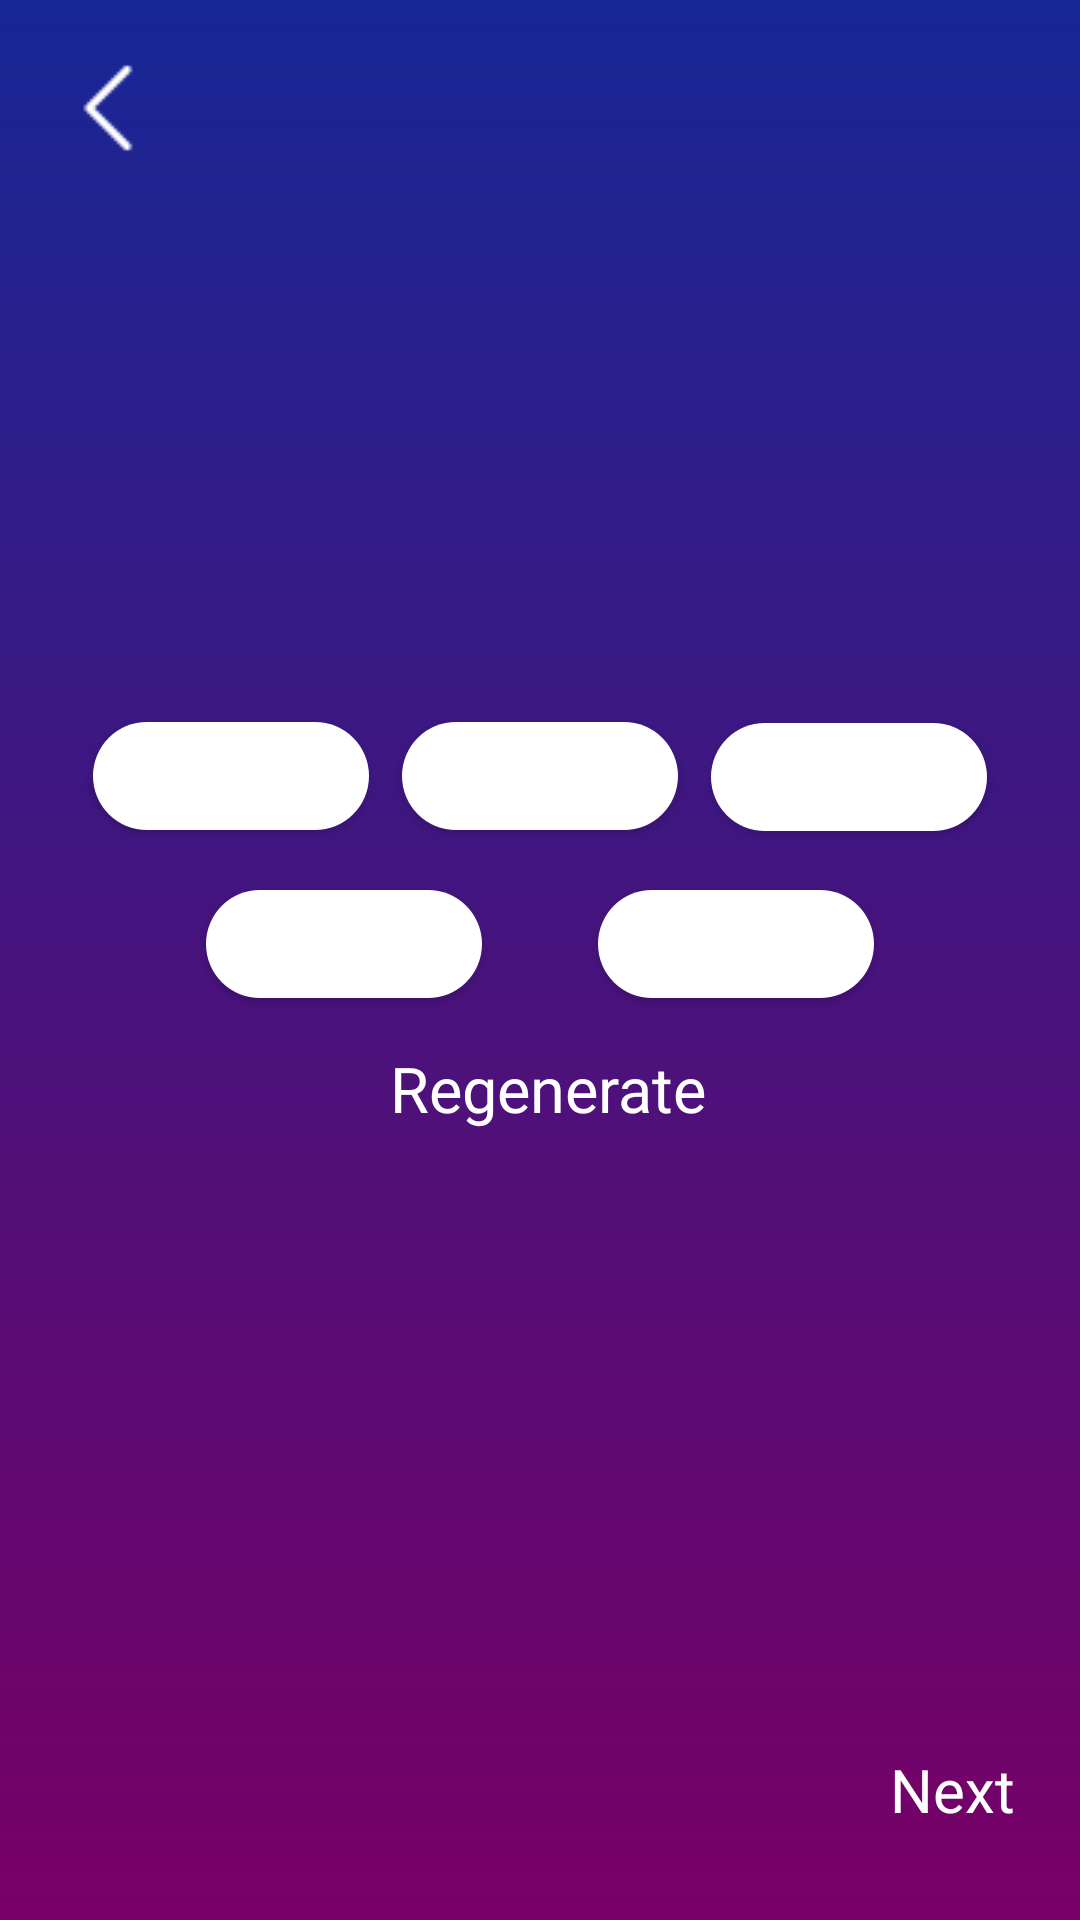

Screen size 1080x1920. Icon name, then its center in pixels as [x,y]:
Back arrow: [108,108]
